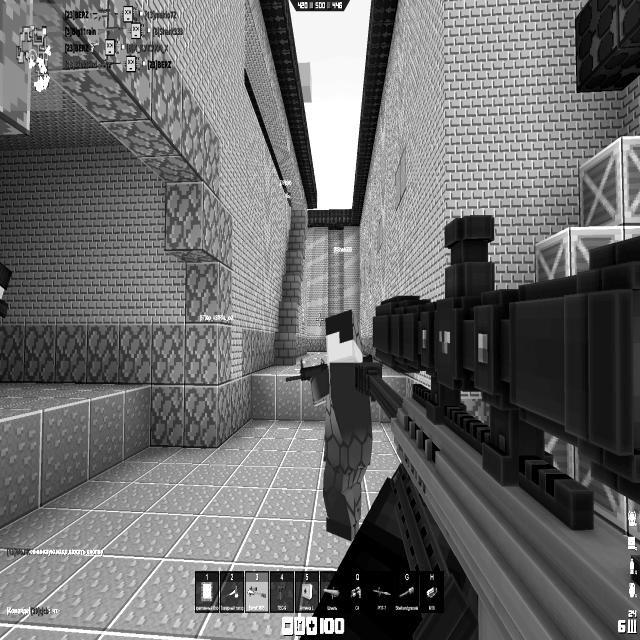Head: (324, 308, 362, 362)
Player: (299, 308, 375, 542)
